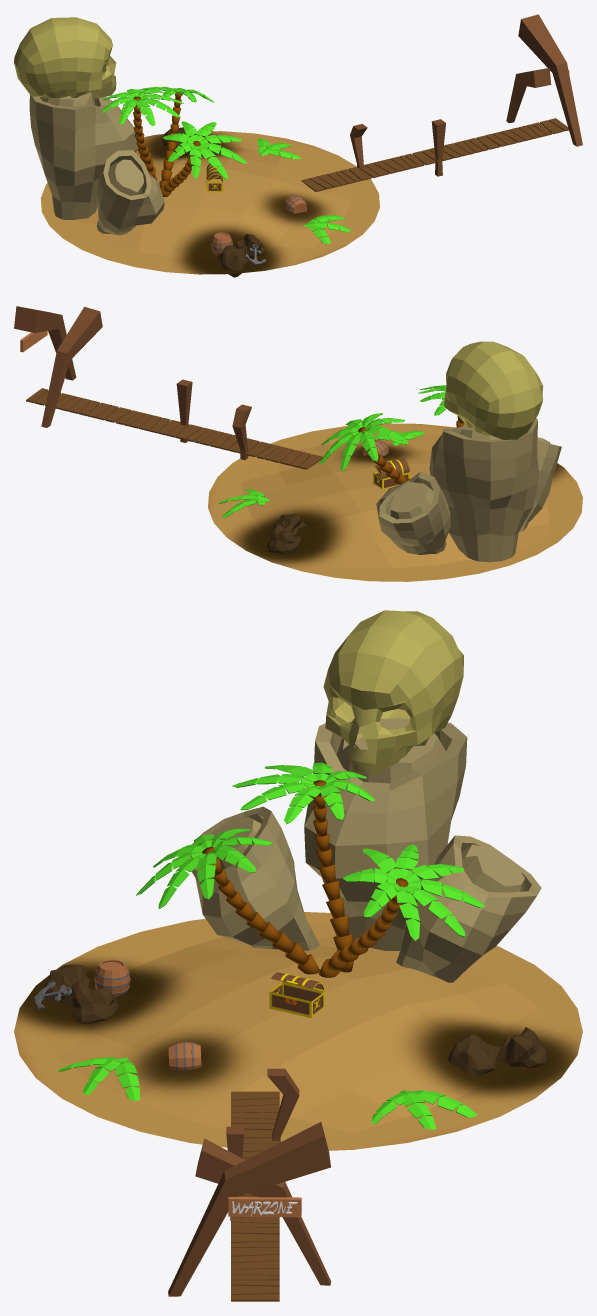
File: Warzone.glb
3 renders of one model, top to bottom at view 1: azimuth 30°, elevation 25°; view 2: azimuth 150°, elevation 25°; view 3: azimuth 270°, elevation 25°, orthographic. The views are drawn at different scales.
Visible parts, largest first — view 1: Circle.007, RockaGrande, Calabera, RockaMediana, Puente, Palo, Plane.027, Plane.026, Rock1, Palo.001, Cylinder.034, Cylinder.032 (+7 smaller); view 2: Circle.007, RockaGrande, Calabera, Puente, RockaMediana.001, Palo.001, Plane.028, Palo, RockaMediana, Rock2, Palo.003, Cofre (+2 smaller); view 3: Circle.007, RockaGrande, Calabera, RockaMediana.001, RockaMediana, Puente, Palo, Plane.028, Plane.026, Plane.027, Rock2, Palo.001 (+9 smaller).
Boxes of the visible parts, x1,y1,x2,y2 form: Circle.007: (40,131,379,274); RockaGrande: (29,92,138,219); Calabera: (14,17,116,99); RockaMediana: (96,150,164,235); Puente: (301,118,568,191); Palo: (518,14,582,146); Plane.027: (163,121,247,178); Plane.026: (101,89,183,126); Rock1: (218,234,265,277); Palo.001: (506,68,551,123); Cylinder.034: (159,93,181,188); Cylinder.032: (133,96,157,180); Circle.007: (208,423,582,581); RockaGrande: (429,418,538,562); Calabera: (444,341,543,439); Puente: (26,388,322,469); RockaMediana.001: (376,471,450,554); Palo.001: (41,307,102,427); Plane.028: (319,413,405,471); Palo: (14,306,76,380); RockaMediana: (519,437,561,531); Rock2: (267,514,305,554); Palo.003: (232,404,251,459); Cofre: (373,458,409,489); Circle.007: (14,912,582,1150); RockaGrande: (304,718,467,950); Calabera: (323,610,463,774); RockaMediana.001: (396,835,541,982); RockaMediana: (190,806,319,950); Puente: (231,1091,279,1301); Palo: (168,1122,330,1296); Plane.028: (343,844,485,941); Plane.026: (232,762,375,824); Plane.027: (153,829,272,908); Rock2: (448,1027,547,1075); Palo.001: (195,1138,331,1285).
Bounding box in the file's own units: 39.59 × 15.29 × 23.31.
17 materials, 1 textured.
